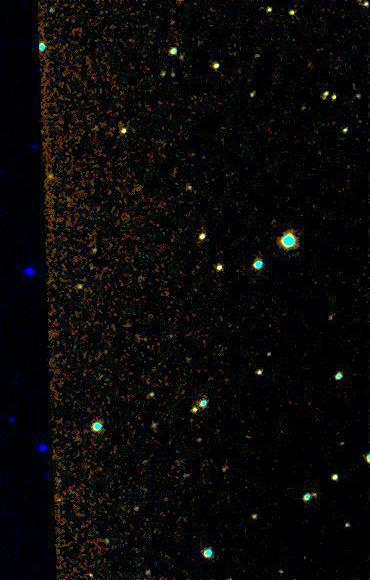star: (75, 560, 105, 580)
